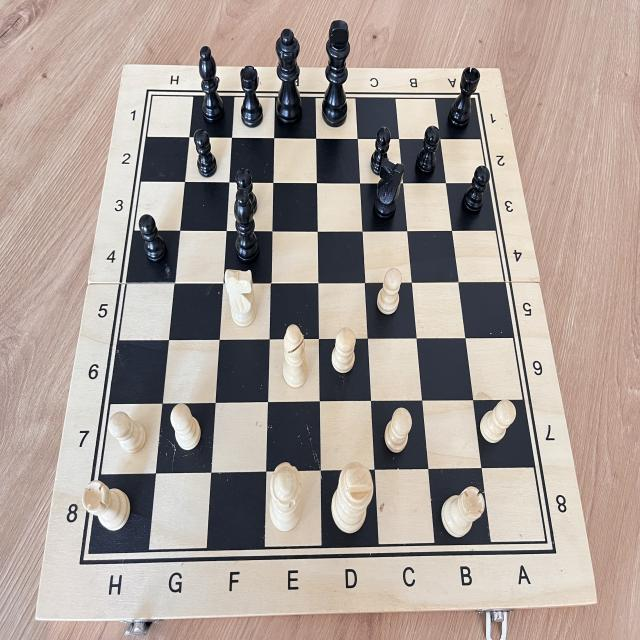black-bishop: (223, 184, 266, 272), (190, 41, 230, 130)
black-king: (317, 15, 354, 132)
black-knight: (368, 153, 406, 231)
black-pawn: (135, 208, 171, 267), (457, 161, 492, 221), (410, 122, 444, 181), (188, 124, 221, 180), (229, 163, 261, 220), (368, 122, 397, 178)
black-queen: (269, 24, 309, 130)
black-rook: (442, 63, 483, 137), (234, 62, 267, 131)
white-bishop: (276, 320, 311, 394)
white-king: (327, 457, 376, 537)
white-knight: (220, 265, 259, 330)
white-pawn: (476, 396, 520, 450), (168, 393, 205, 455), (104, 408, 150, 457), (326, 321, 358, 379), (379, 404, 415, 455), (374, 264, 404, 320)
white-queen: (266, 459, 309, 535)
white-rook: (78, 475, 133, 535), (436, 481, 488, 541)
